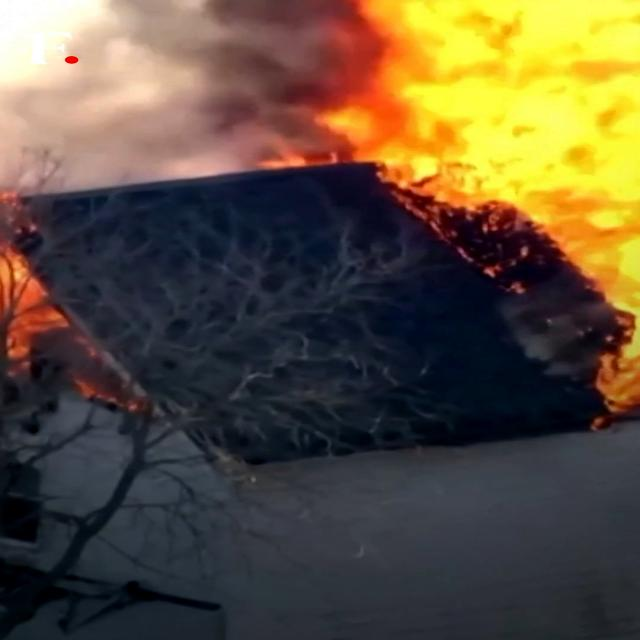Fire: (298, 0, 640, 419)
Smoke: (0, 0, 340, 190)
